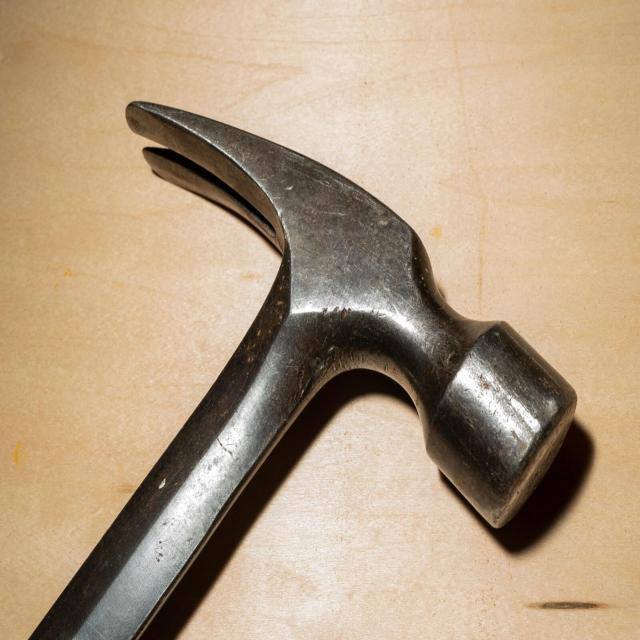hammer: (12, 94, 584, 640)
